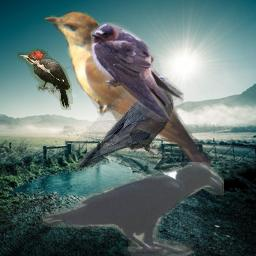Crow: (40, 162, 224, 256), (75, 82, 184, 170)
Cuckoo: (43, 11, 211, 177)
Swallow: (89, 22, 184, 122)
Woodpecker: (17, 48, 74, 110)
